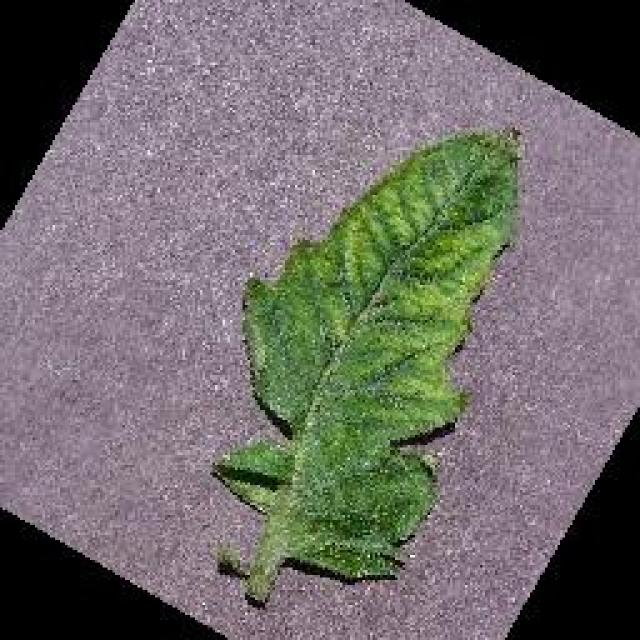Tomato___Tomato_mosaic_virus: (215, 130, 518, 602)
